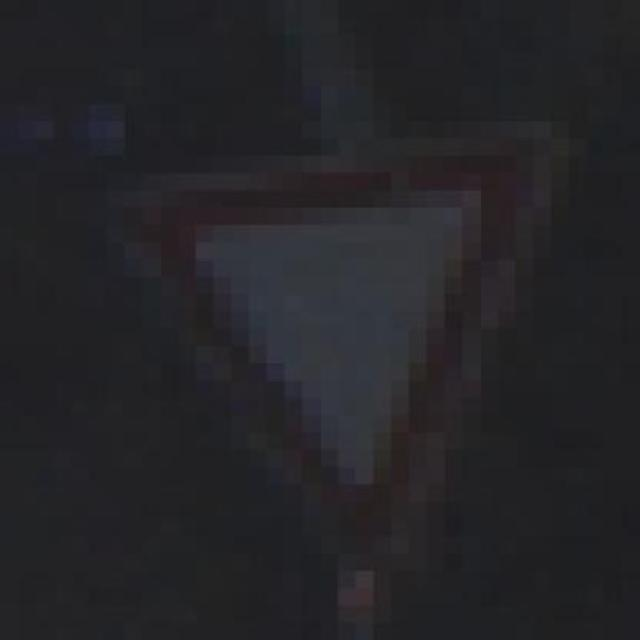Give Way: (70, 98, 585, 600)
